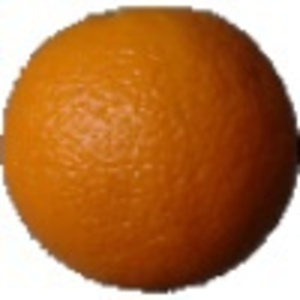laranja: (3, 4, 295, 297)
